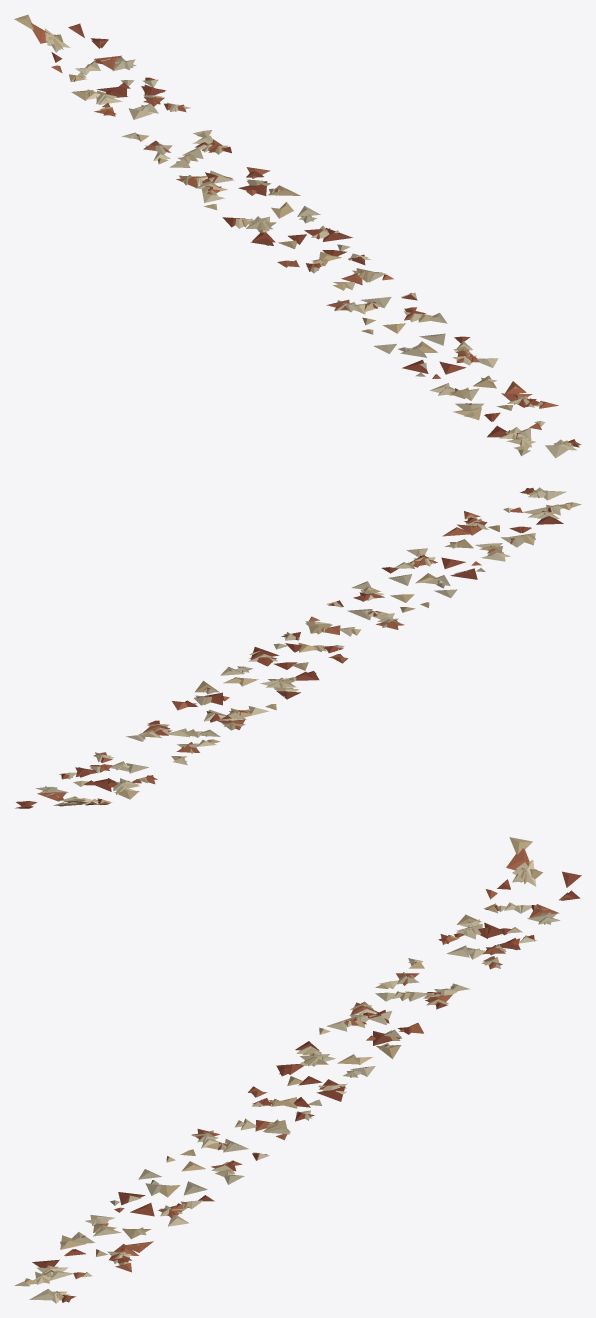
The model's file is dam_domes_fin_mid_detail2.glb.
3 views of the same model, one above another, from view 1: azimuth 30°, elevation 25°; view 2: azimuth 150°, elevation 25°; view 3: azimuth 330°, elevation 25° (orthographic).
Visible parts, largest first — view 1: dam_domes_fin_mid_detail2; view 2: dam_domes_fin_mid_detail2; view 3: dam_domes_fin_mid_detail2.
Boxes of the visible parts, x1,y1,x2,y2 form: dam_domes_fin_mid_detail2: [14, 14, 581, 458]; dam_domes_fin_mid_detail2: [15, 487, 581, 808]; dam_domes_fin_mid_detail2: [14, 837, 581, 1303].
Size of the model in its own units: 1.96 by 1.62 by 19.72.
